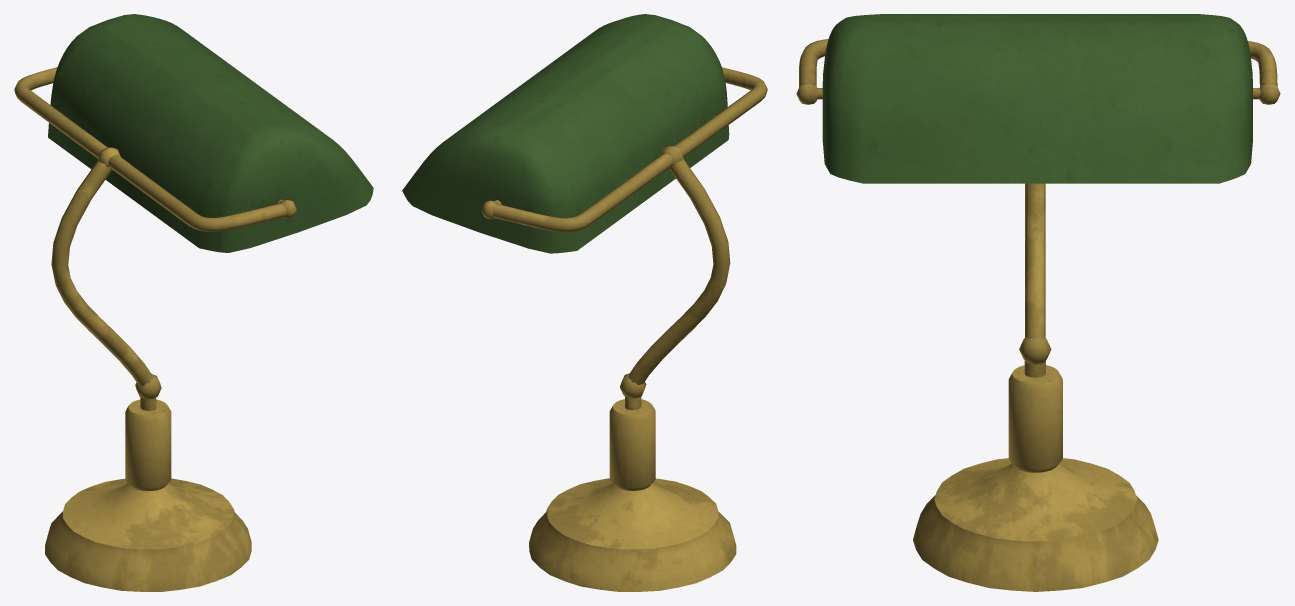
The model's file is mdl_brush_desklamp.gltf.
3 renders of one model, left to right at view 1: azimuth 30°, elevation 25°; view 2: azimuth 150°, elevation 25°; view 3: azimuth 270°, elevation 25°, orthographic. The views are drawn at different scales.
Parts seen in each view (by area): view 1: Cylinder.003; view 2: Cylinder.003; view 3: Cylinder.003.
Part boxes in pixels (bbox=[...]): Cylinder.003: bbox=[14, 14, 373, 591]; Cylinder.003: bbox=[402, 14, 767, 591]; Cylinder.003: bbox=[796, 14, 1280, 591].
Size of the model in its own units: 0.1147 by 0.2044 by 0.1645.
Materials: 1 (1 with a texture image).
